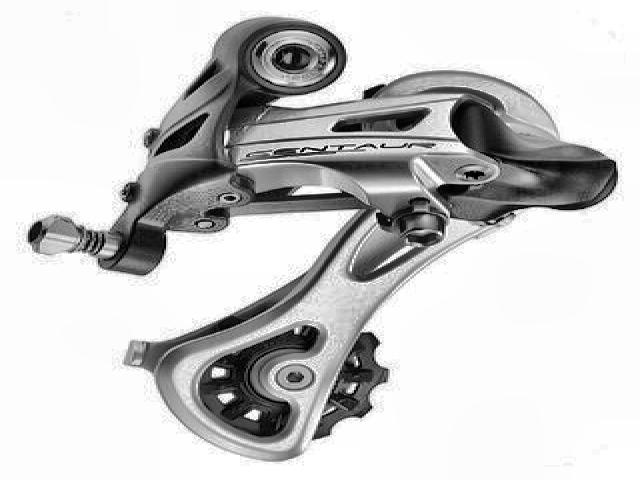rear_derailleur: (23, 10, 626, 462)
